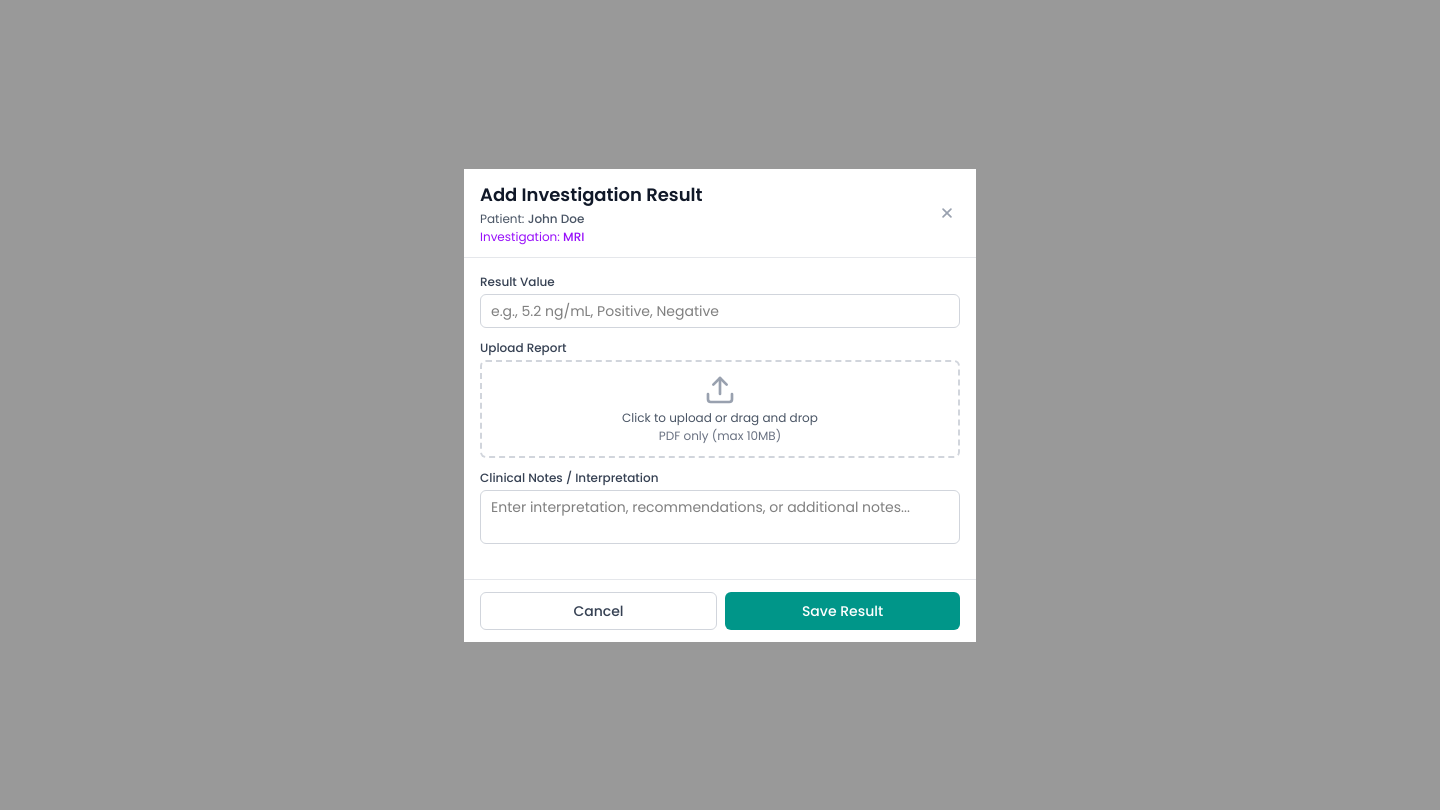
Test: AddInvestigationResultModal › should handle submission error message
In the field with placeholder "e.g., 5.2 ng/mL, Positive, Negative": (720, 310) [480, 294, 960, 328], type "Normal"
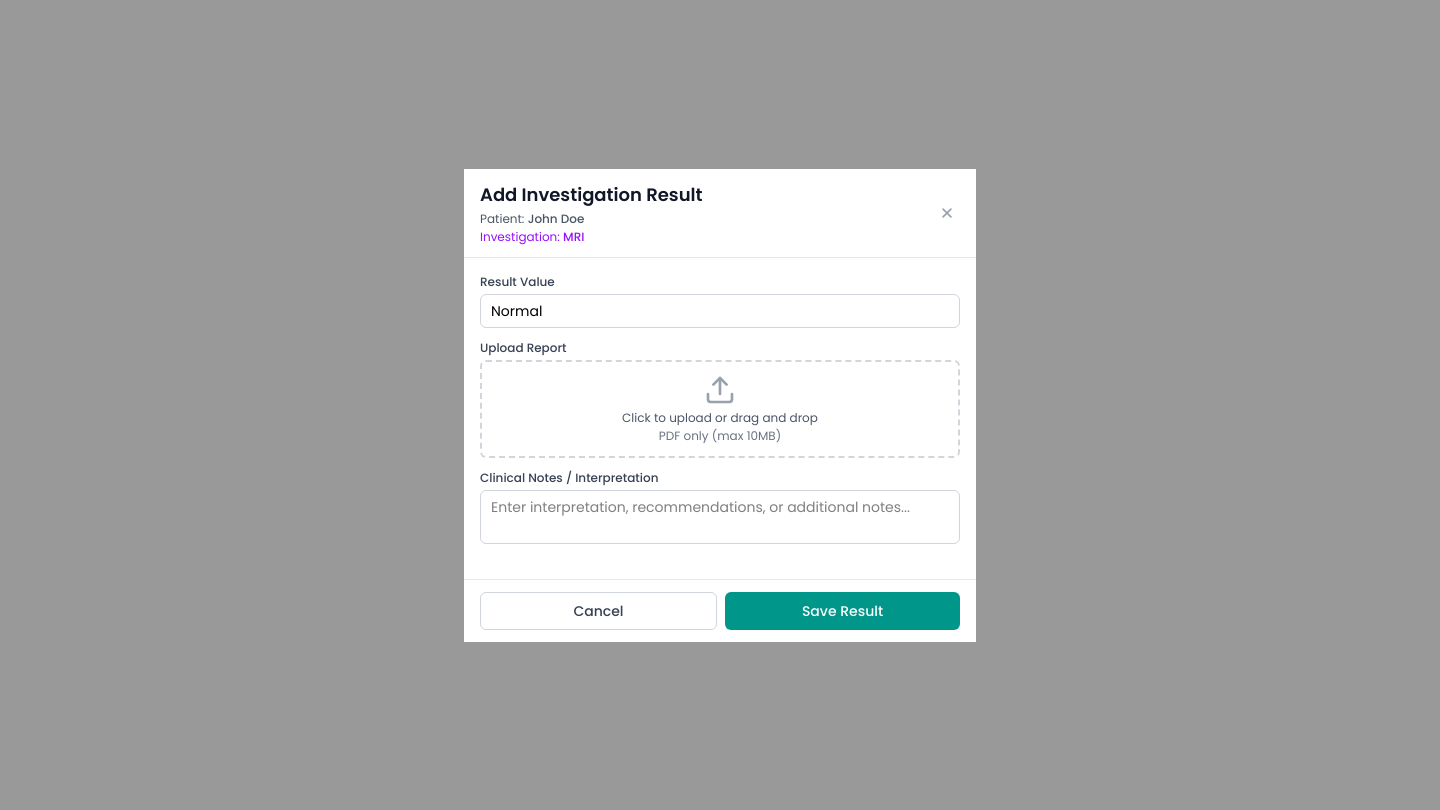
Click the button "Save Result": (842, 610) [725, 592, 960, 630]
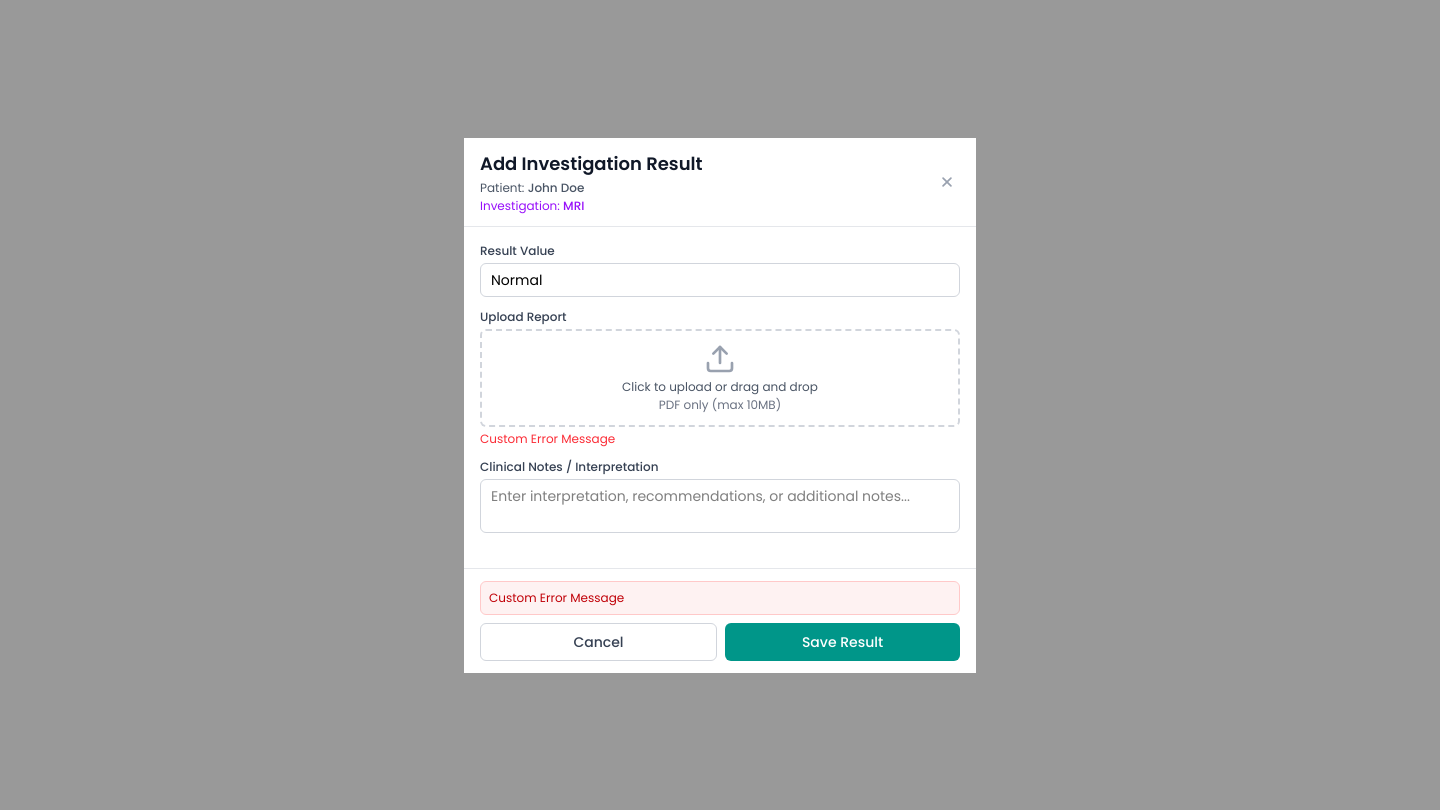
Check: the text "Custom Error Message" below "PDF only (max 10MB)" is shown, box [480, 430, 615, 446]
